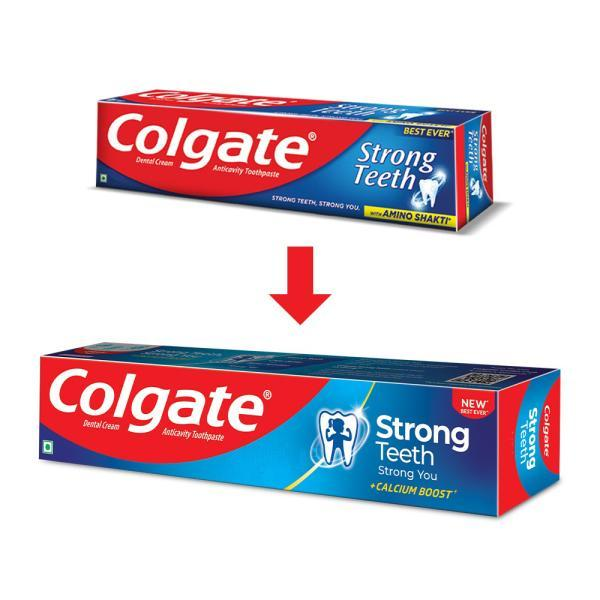Colgate: (38, 339, 561, 519), (96, 88, 493, 231)
